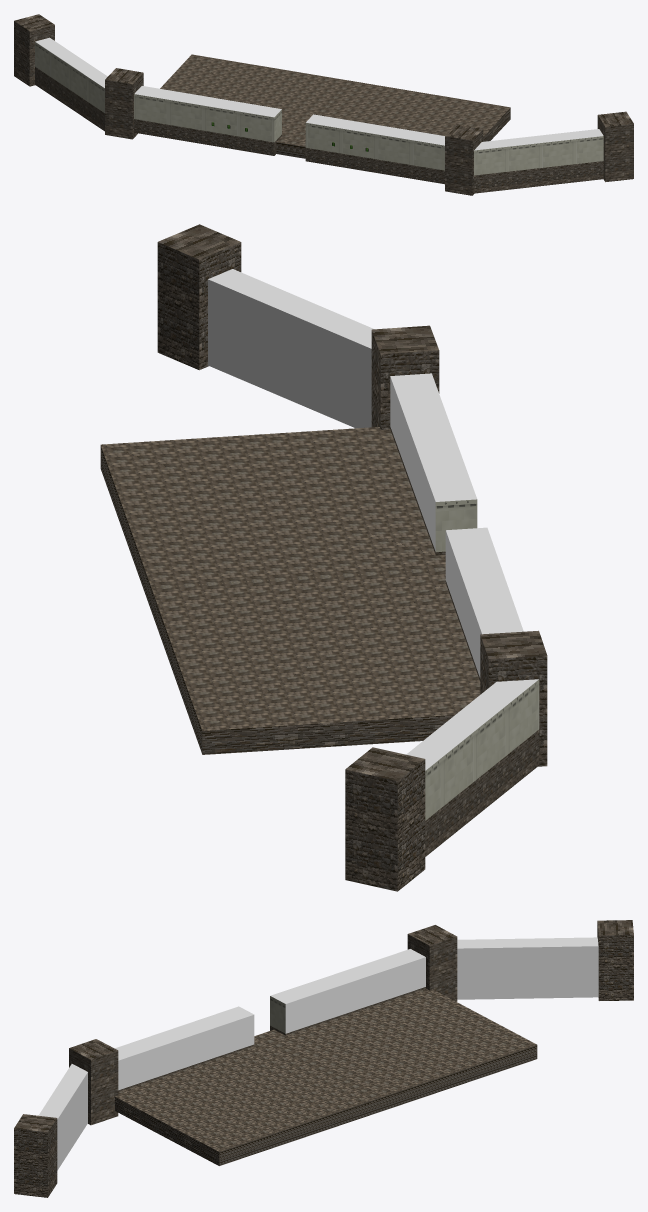
The model's file is castleOuter.fbx.
The picture shows the model from 3 angles, top to bottom: view 1: azimuth 30°, elevation 25°; view 2: azimuth 150°, elevation 25°; view 3: azimuth 270°, elevation 25°; orthographic projection. The views are drawn at different scales.
Parts seen in each view (by area): view 1: castleOuter; view 2: castleOuter; view 3: castleOuter.
Boxes of the visible parts, x1,y1,x2,y2 form: castleOuter: (14,14,633,195); castleOuter: (100,224,547,891); castleOuter: (14,920,633,1197).
Size of the model in its own units: 17432 by 2515 by 21524.
